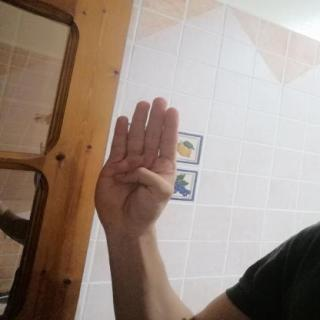KAAF: (83, 89, 187, 242)
